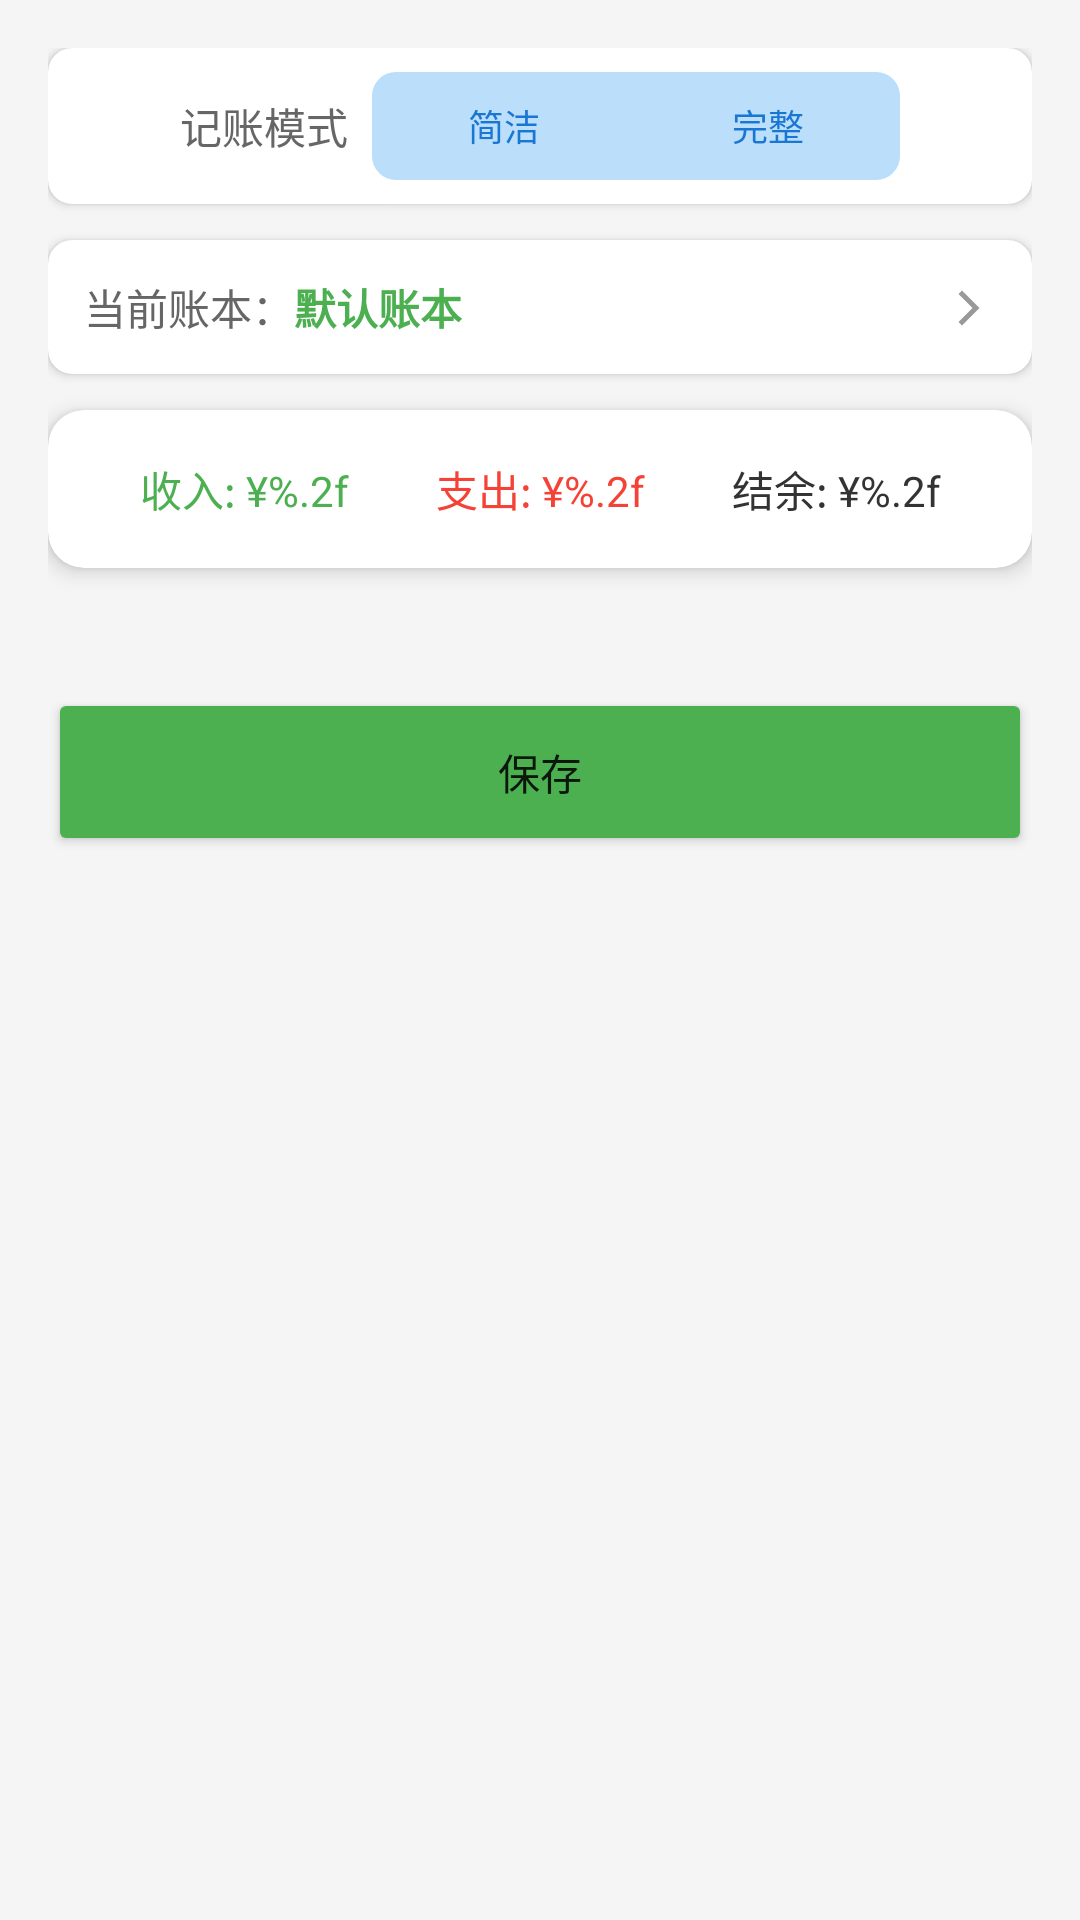

Screen size 1080×1920. Icon name, then its box in pixels as bbox(x1, y1, x2, y2):
向右箭头: bbox(959, 291, 979, 325)
